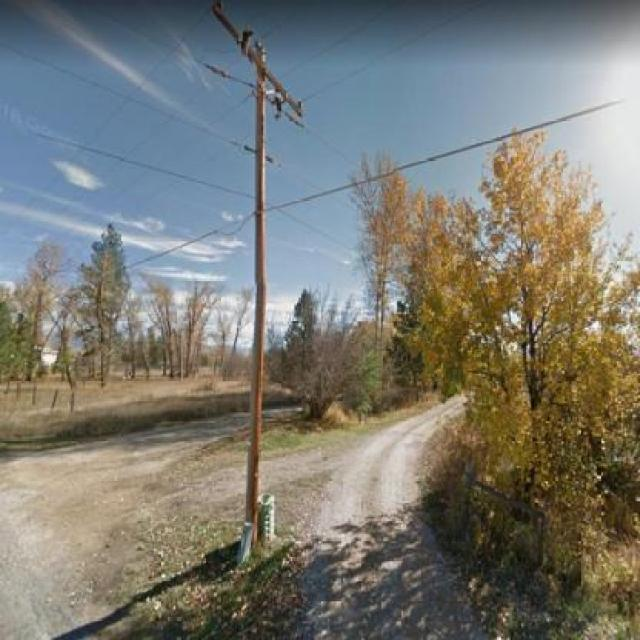pole: (190, 0, 326, 552)
